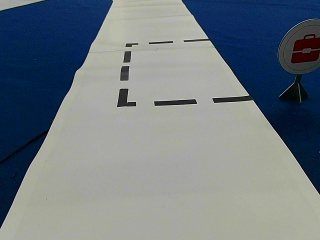company: (278, 18, 319, 73)
